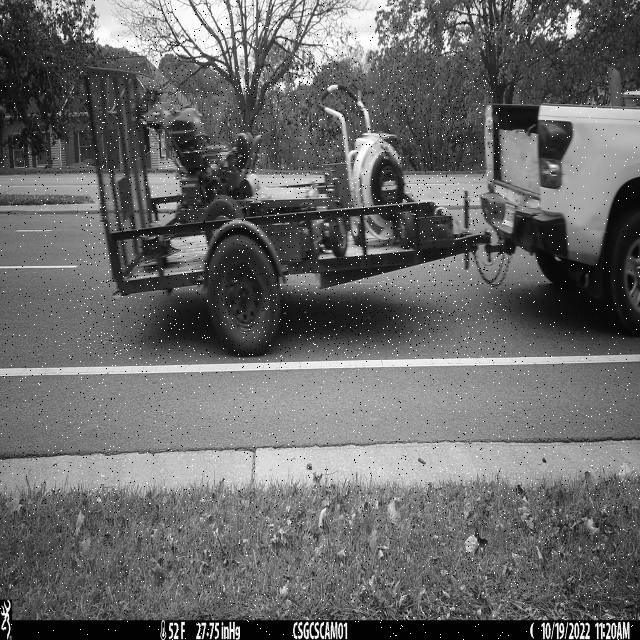Trailer: (80, 66, 506, 359)
